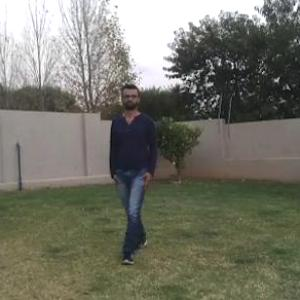follow: (114, 90, 153, 246)
